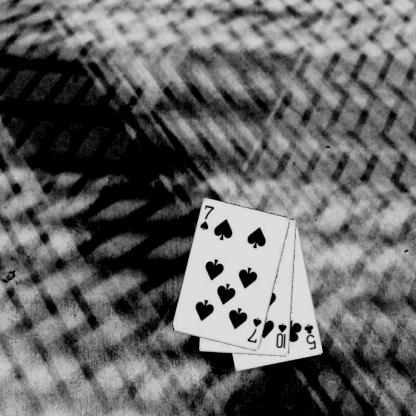10S: (274, 321, 288, 350)
5C: (301, 322, 318, 351)
7S: (244, 315, 262, 344), (197, 203, 215, 232)
